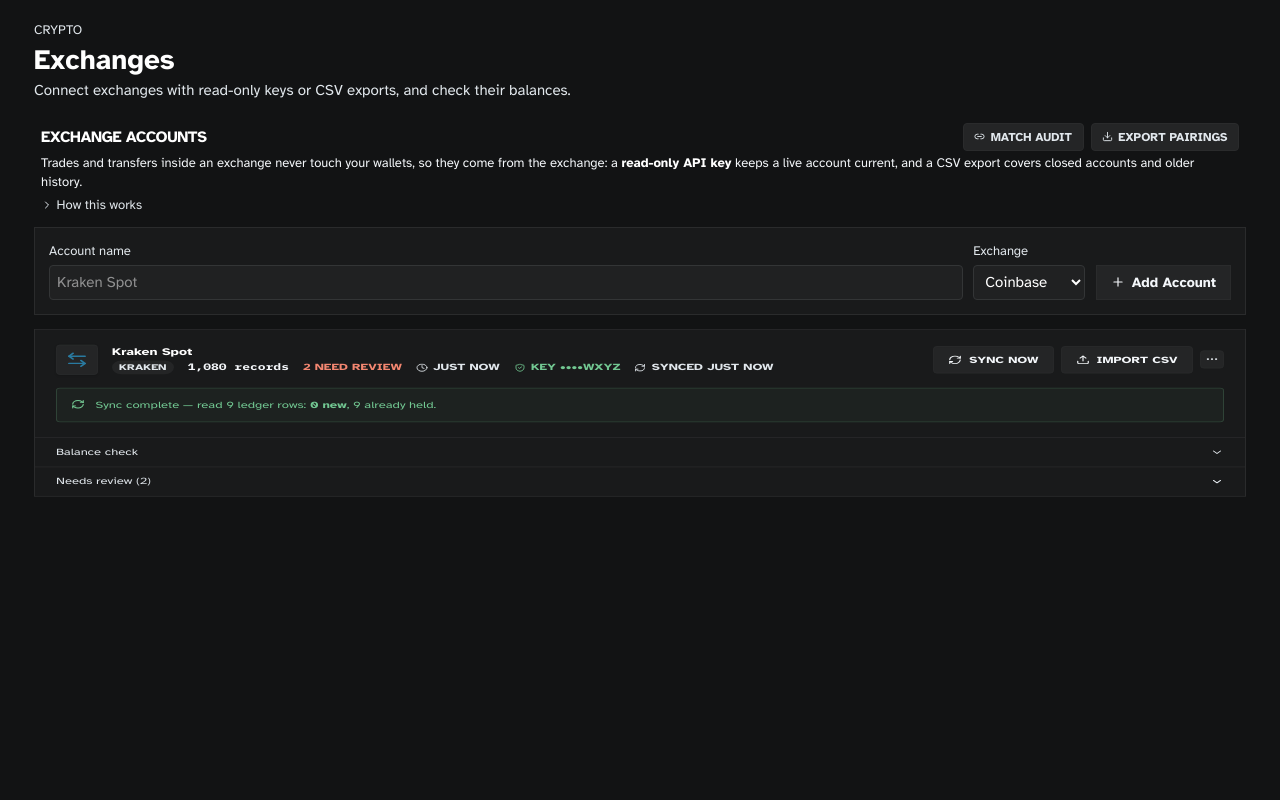
Crypto -> Exchanges tab › does not mistake the previous completed job for a sync whose response was lost
Expected: the text "Sync complete — read 9 ledger rows: 0 new, 9 already held." is shown, [96,398,436,411]
Click the button with aria-label "Sync Kraken Spot now" at {"x": 993, "y": 359}, box [933,346,1054,373]
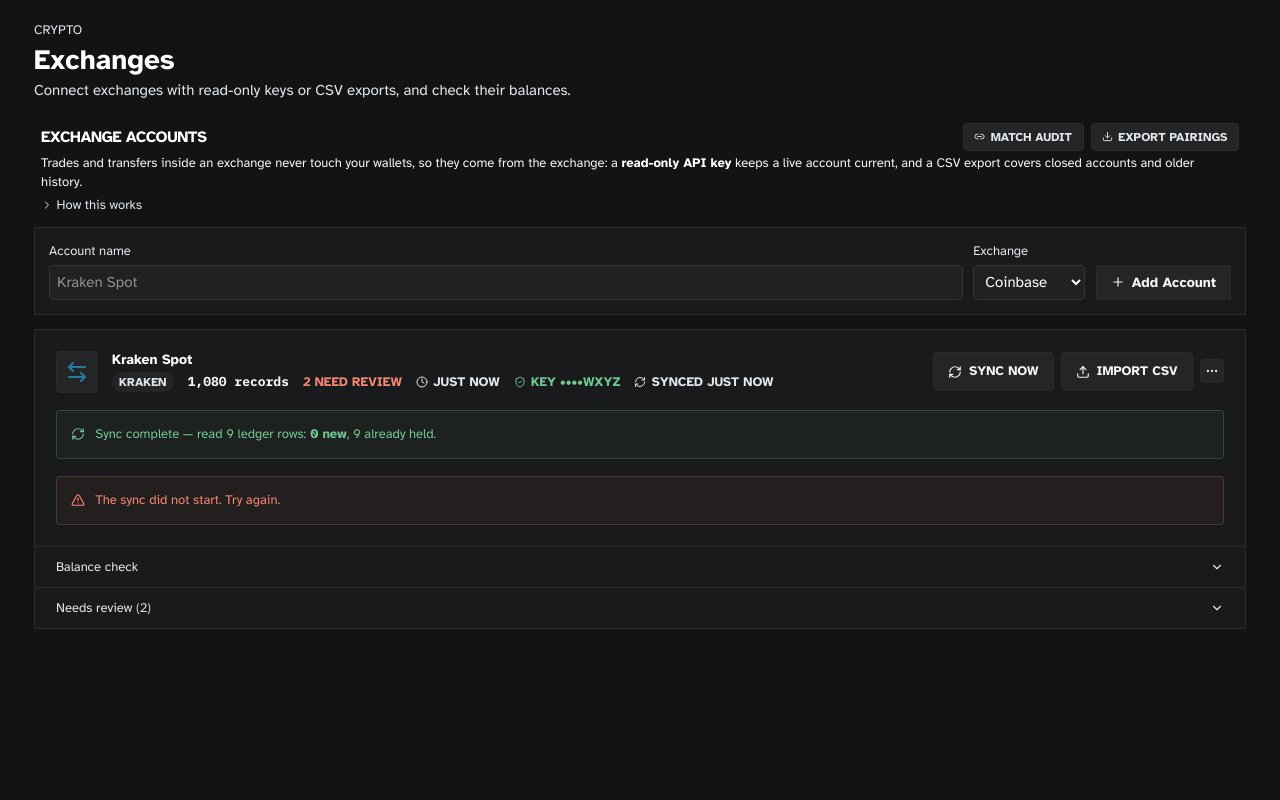
Expected: the button with aria-label "Sync Kraken Spot now" is enabled, [933,352,1054,391]
Result: the text "The sync did not start. Try again." is shown at [96,492,280,510]
